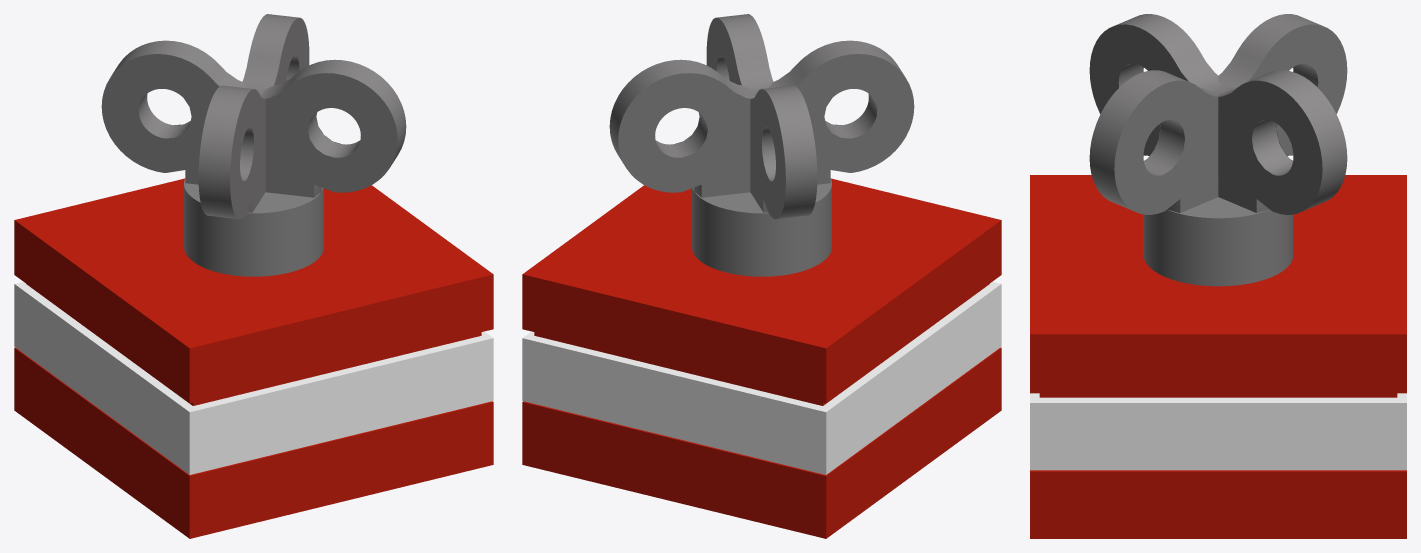
The model's file is present.glb.
3 renders of one model, left to right at view 1: azimuth 30°, elevation 25°; view 2: azimuth 150°, elevation 25°; view 3: azimuth 270°, elevation 25°, orthographic. The views are drawn at different scales.
Parts seen in each view (by area): view 1: 87580.dat; view 2: 87580.dat; view 3: 87580.dat.
Boxes of the visible parts, x1,y1,x2,y2 form: 87580.dat: (14, 14, 493, 538); 87580.dat: (522, 14, 1001, 538); 87580.dat: (1030, 14, 1406, 538).
Size of the model in its own units: 0.398 by 0.4765 by 0.398.
